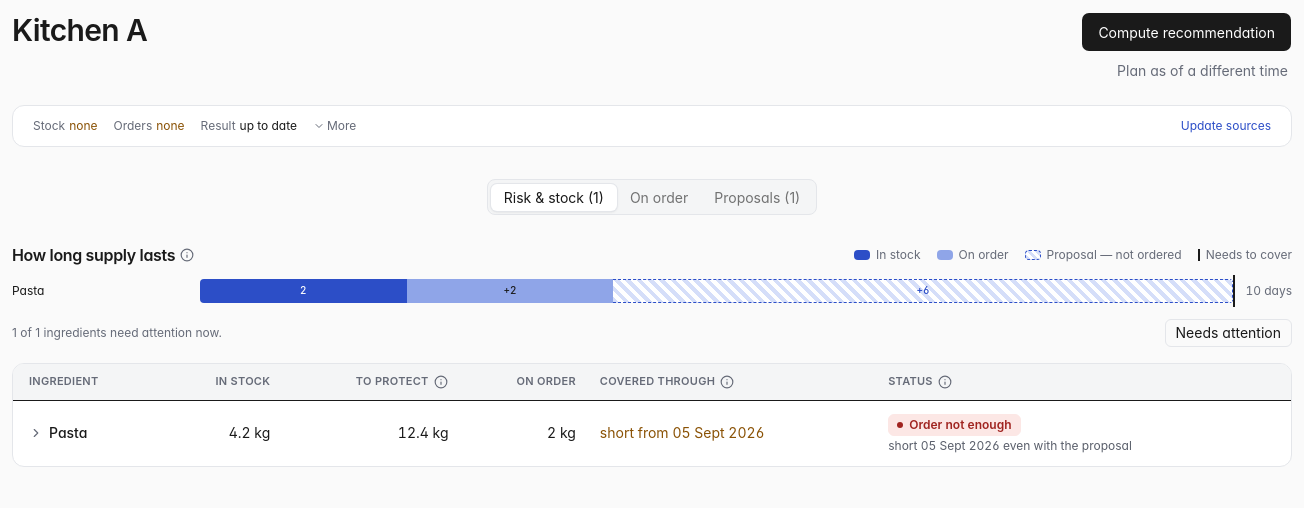
Test case: the run action › warns that a synchronous run takes time
Click the button "Compute recommendation": click(1187, 32) [1081,12,1292,52]
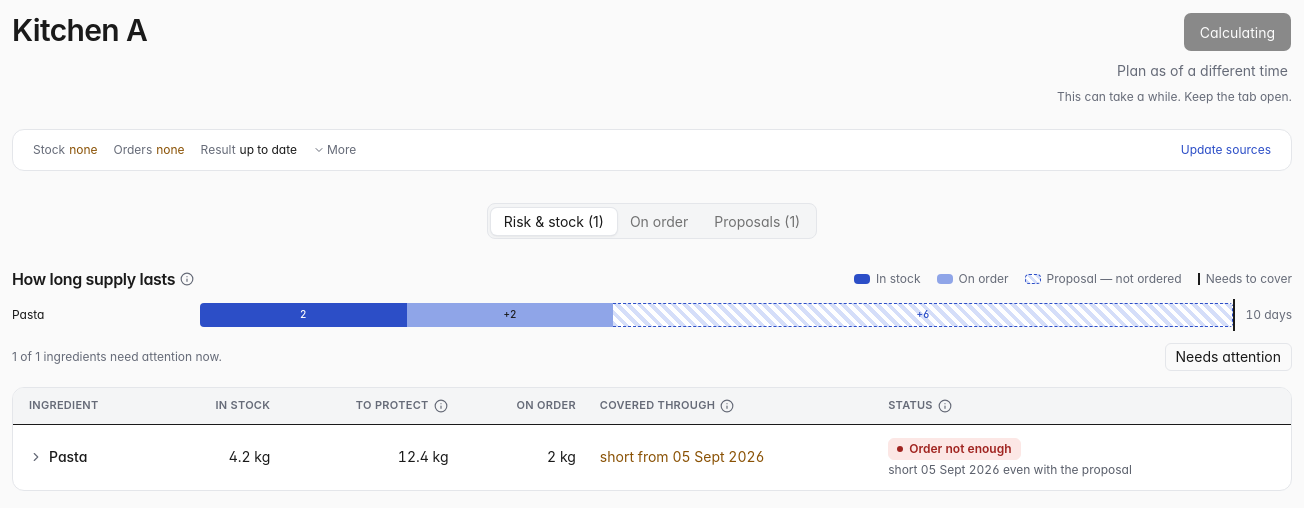
Now the text "This can take a while. Keep the tab open." is shown, box [1057,89,1292,105]
